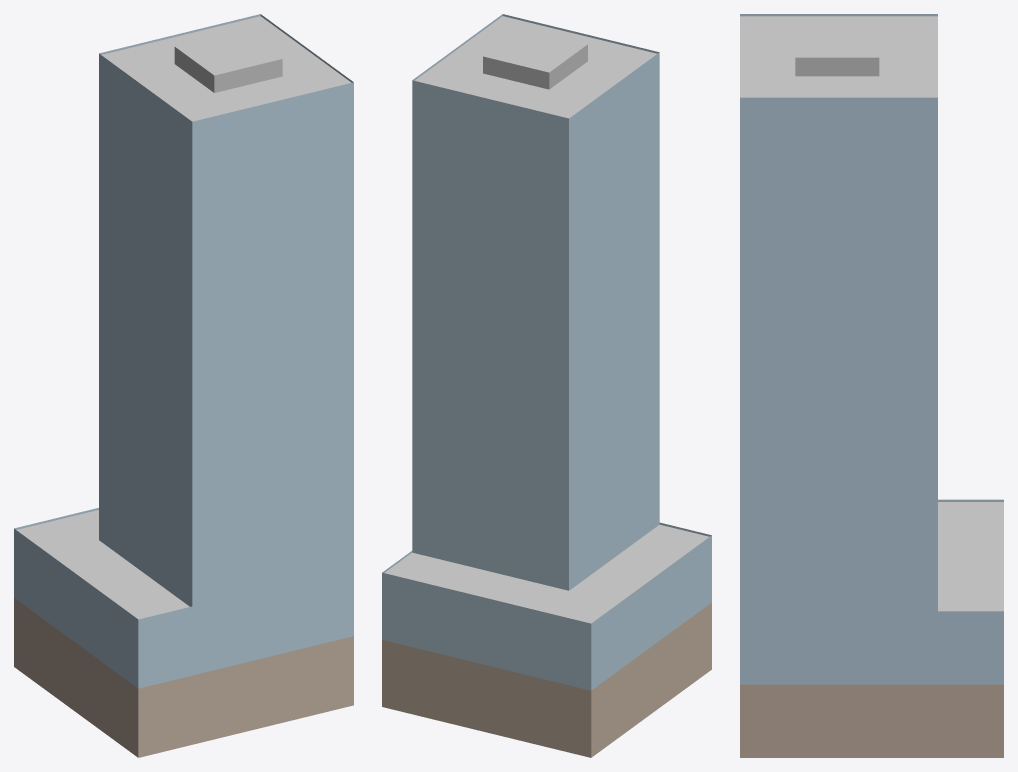
3 renders of one model, left to right at view 1: azimuth 30°, elevation 25°; view 2: azimuth 150°, elevation 25°; view 3: azimuth 270°, elevation 25°, orthographic. The views are drawn at different scales.
Visible parts, largest first — view 1: Object_4, Object_5, Object_3, Object_2, Object_1; view 2: Object_4, Object_5, Object_2, Object_3, Object_1; view 3: Object_4, Object_5, Object_3, Object_2, Object_1.
Part boxes in pixels (<box>): Object_4: <box>14,14,353,688</box>; Object_5: <box>14,598,353,757</box>; Object_3: <box>101,16,351,121</box>; Object_2: <box>16,510,189,619</box>; Object_1: <box>174,30,282,92</box>; Object_4: <box>382,14,711,690</box>; Object_5: <box>382,602,711,757</box>; Object_2: <box>384,524,709,623</box>; Object_3: <box>414,16,657,118</box>; Object_1: <box>483,28,587,89</box>; Object_4: <box>740,14,1003,684</box>; Object_5: <box>740,684,1003,757</box>; Object_3: <box>740,16,937,97</box>; Object_2: <box>938,502,1003,611</box>; Object_1: <box>795,22,879,76</box>.
Size of the model in its own units: 1283 by 1283 by 3631.
